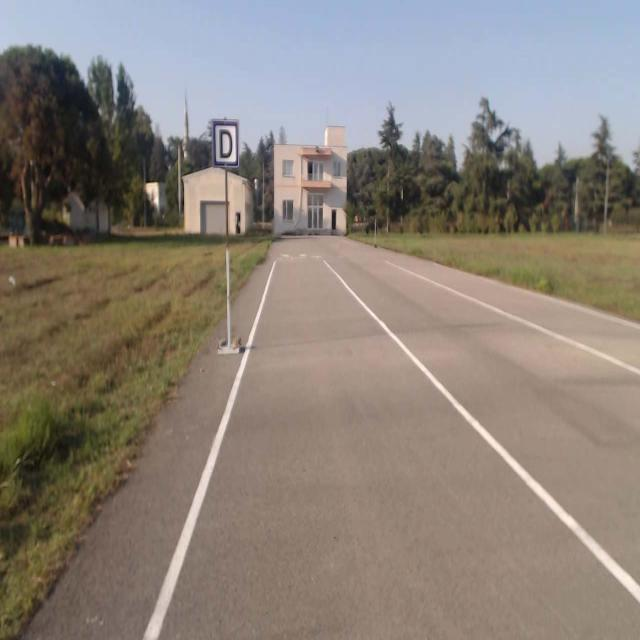durak: (212, 119, 238, 168)
